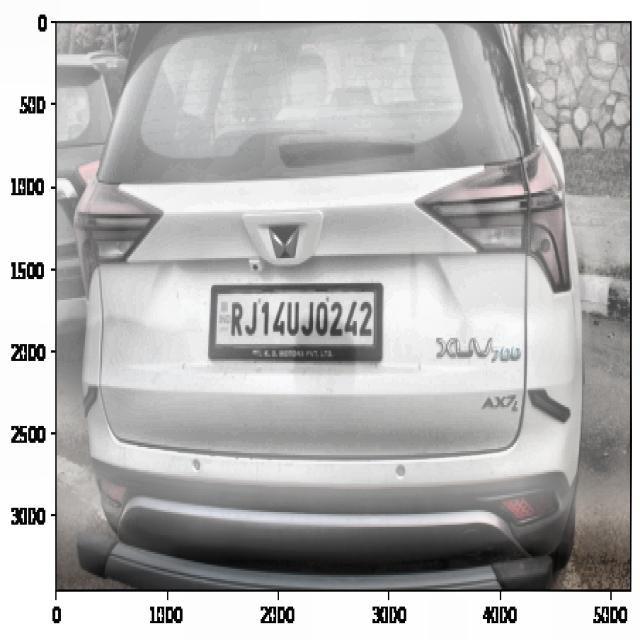license_plate: (223, 291, 378, 351)
